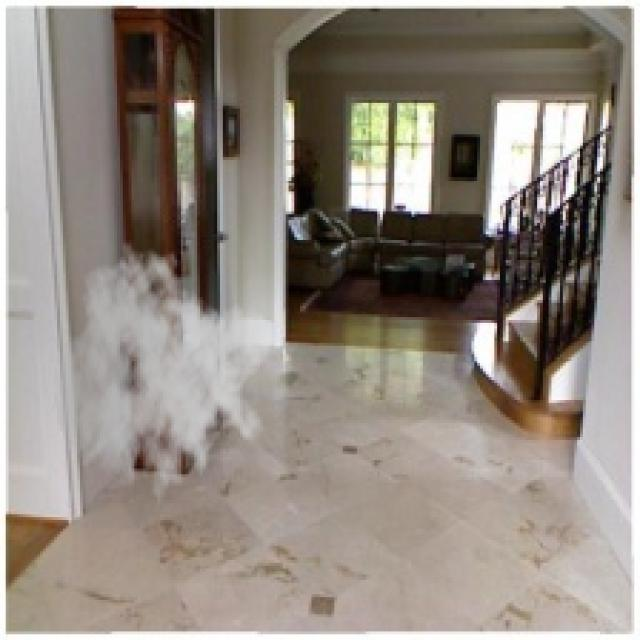smoke: (51, 240, 272, 520)
